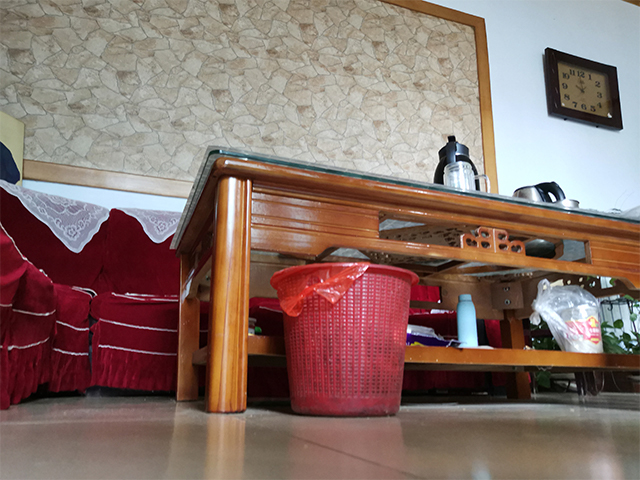sofa: (1, 178, 183, 410)
table: (167, 145, 640, 416)
trashcan: (269, 261, 421, 420)
